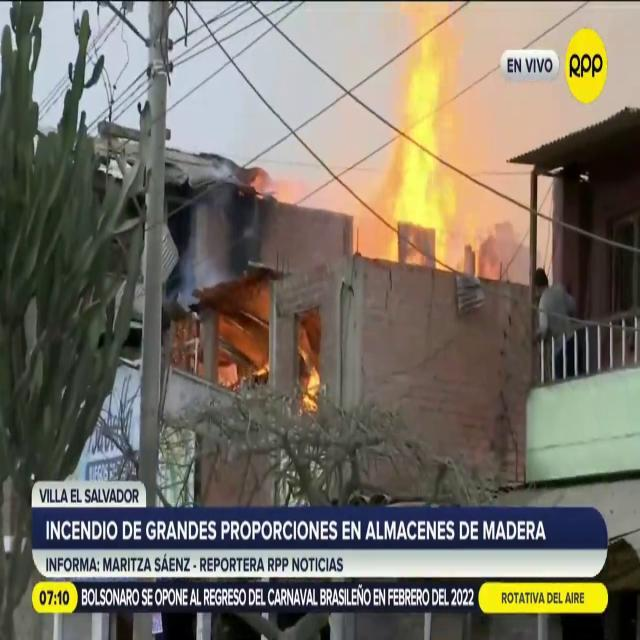Fire: (362, 5, 486, 268)
